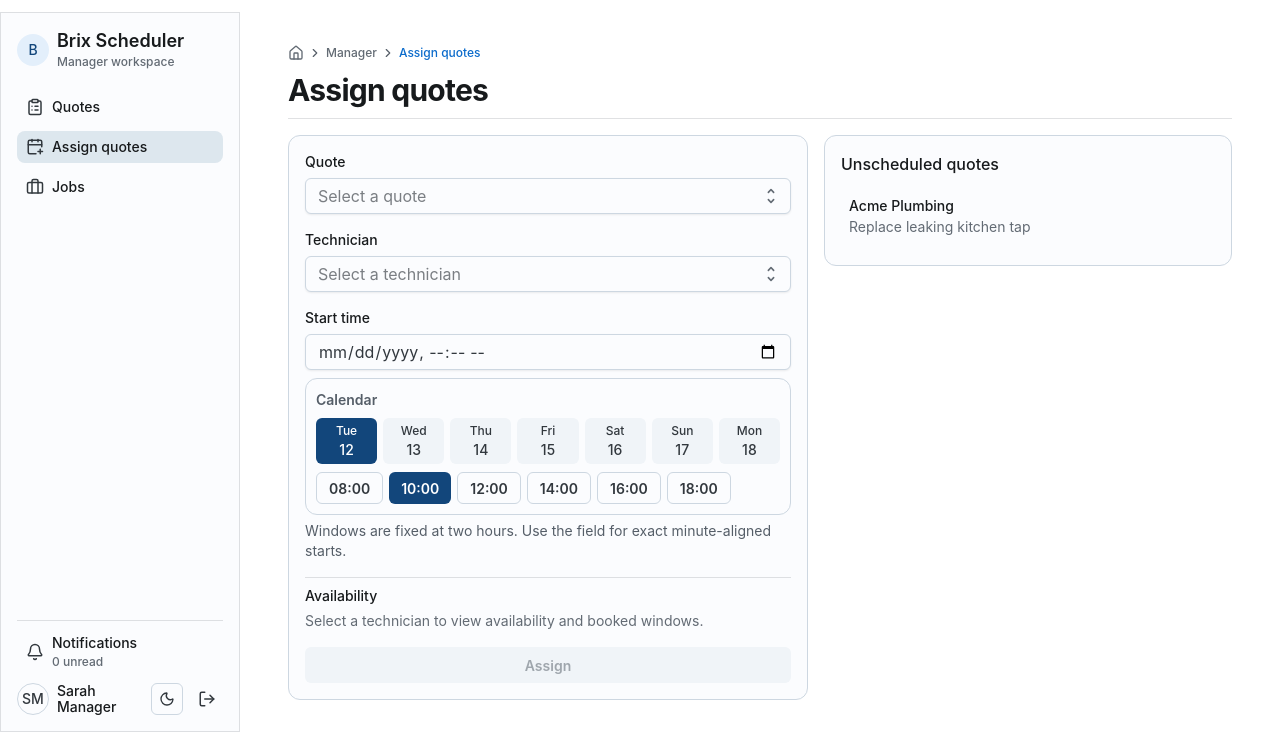
Test: manager dashboard › Assign page displays selected technician availability and booked windows
Click the dropdown labelled "technician" at (389, 274), box [318,260,753,288]
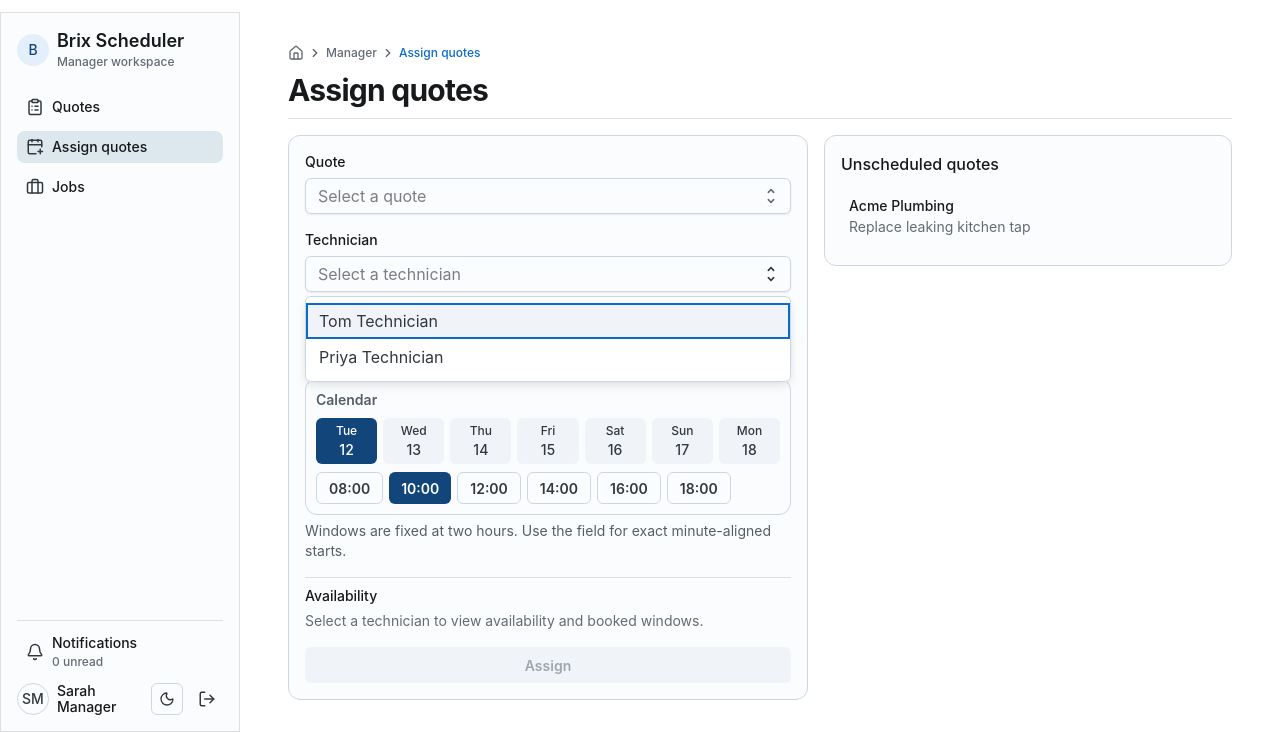
Click the option "Tom Technician" at (378, 321), box [306,303,790,339]
(page scrolled)
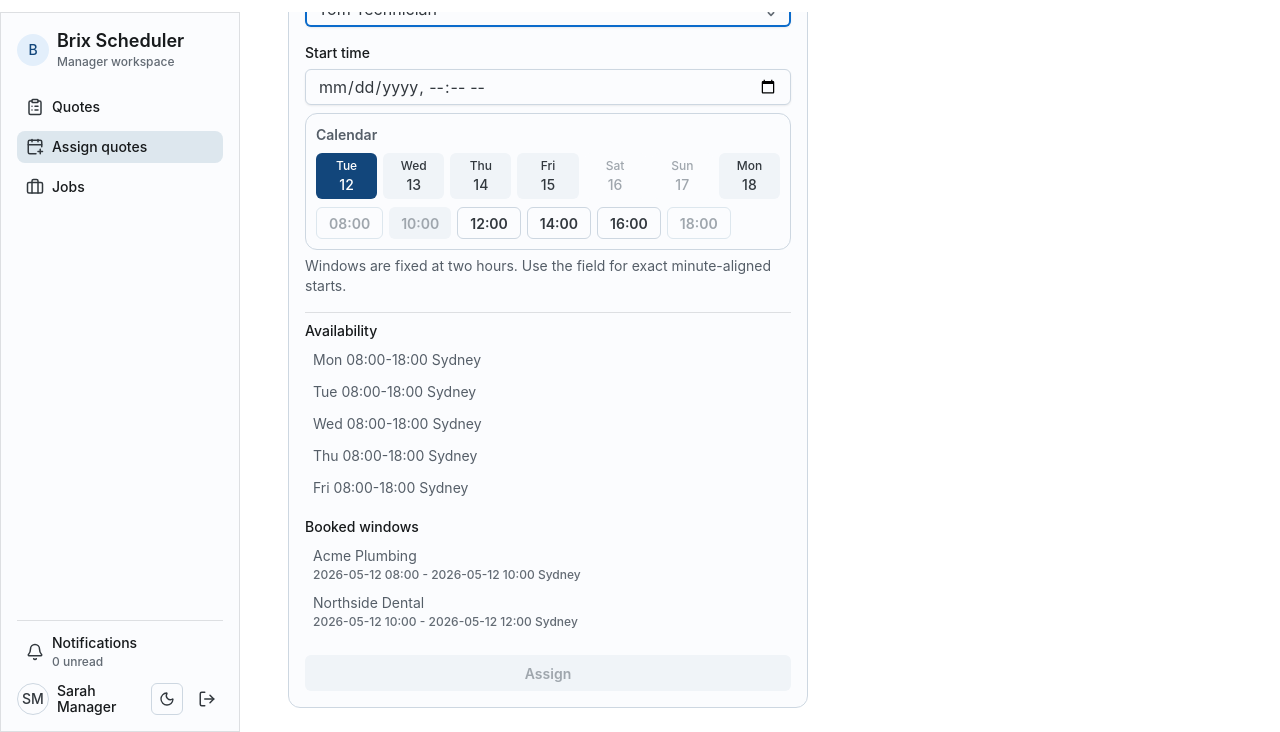
Result: the element named "Tom Technician availability" shows "Tue 08:00-18:00 Sydney" at [313,383,476,400]
Result: the element named "Tom Technician availability" shows "Acme Plumbing" at [313,547,417,564]
Result: the element named "Tom Technician availability" shows "2026-05-12 08:00 - 2026-05-12 10:00 Sydney" at [313,567,581,582]
